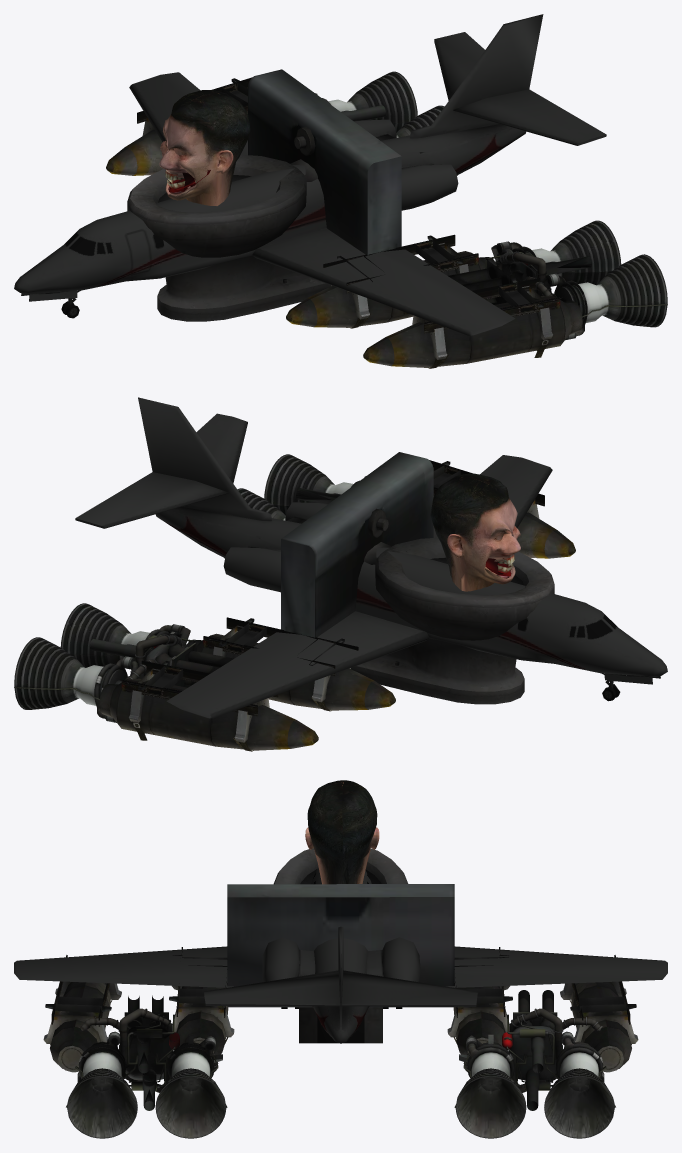
3 renders of one model, top to bottom at view 1: azimuth 30°, elevation 25°; view 2: azimuth 150°, elevation 25°; view 3: azimuth 270°, elevation 25°, orthographic. The views are drawn at different scales.
Visible parts, largest first — view 1: jet01.smd_1, Toilet.smd_8, Toilet.smd.001_0, titan1_engine_reference.smd.001_5, bomb01.smd.003_7, ..\..\male_05_reference.smd.001_9, bomb01.smd.002_6, titan1_engine_reference.smd_2, bomb01.smd.001_4; view 2: jet01.smd_1, Toilet.smd_8, Toilet.smd.001_0, titan1_engine_reference.smd_2, bomb01.smd.001_4, ..\..\male_05_reference.smd.001_9, bomb01.smd_3, titan1_engine_reference.smd.001_5, bomb01.smd.003_7; view 3: jet01.smd_1, Toilet.smd.001_0, titan1_engine_reference.smd_2, titan1_engine_reference.smd.001_5, ..\..\male_05_reference.smd.001_9, bomb01.smd.003_7, bomb01.smd.001_4, Toilet.smd_8, bomb01.smd.002_6, bomb01.smd_3.
Boxes of the visible parts, x1,y1,x2,y2 form: jet01.smd_1: [14, 14, 606, 335]; Toilet.smd_8: [127, 126, 331, 321]; Toilet.smd.001_0: [248, 69, 401, 255]; titan1_engine_reference.smd.001_5: [448, 220, 667, 340]; bomb01.smd.003_7: [363, 278, 582, 368]; ..\..\male_05_reference.smd.001_9: [159, 90, 250, 205]; bomb01.smd.002_6: [286, 234, 496, 328]; titan1_engine_reference.smd_2: [315, 71, 457, 175]; bomb01.smd.001_4: [106, 77, 251, 175]; jet01.smd_1: [75, 397, 667, 718]; Toilet.smd_8: [350, 508, 554, 704]; Toilet.smd.001_0: [281, 452, 433, 637]; titan1_engine_reference.smd_2: [14, 603, 233, 722]; bomb01.smd.001_4: [99, 660, 318, 751]; ..\..\male_05_reference.smd.001_9: [430, 473, 520, 591]; bomb01.smd_3: [185, 617, 395, 711]; titan1_engine_reference.smd.001_5: [224, 454, 365, 558]; bomb01.smd.003_7: [429, 460, 575, 558]; jet01.smd_1: [14, 868, 667, 1043]; Toilet.smd.001_0: [227, 884, 454, 1007]; titan1_engine_reference.smd_2: [454, 990, 615, 1138]; titan1_engine_reference.smd.001_5: [66, 995, 227, 1138]; ..\..\male_05_reference.smd.001_9: [305, 780, 379, 884]; bomb01.smd.003_7: [43, 955, 121, 1072]; bomb01.smd.001_4: [560, 955, 638, 1072]; Toilet.smd_8: [273, 848, 408, 1043]; bomb01.smd.002_6: [169, 947, 234, 1054]; bomb01.smd_3: [447, 947, 512, 1054].
Bounding box in the file's own units: 2.04 × 0.8084 × 2.29.
8 materials, 8 textured.
